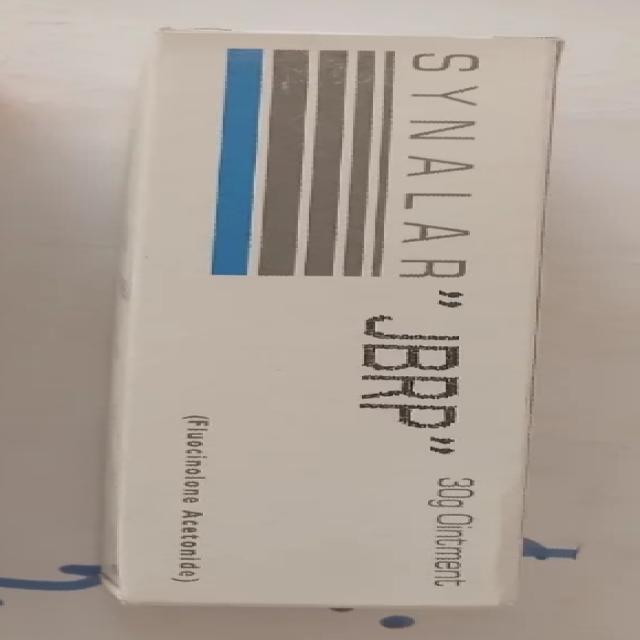drug-name: (355, 306, 460, 431)
